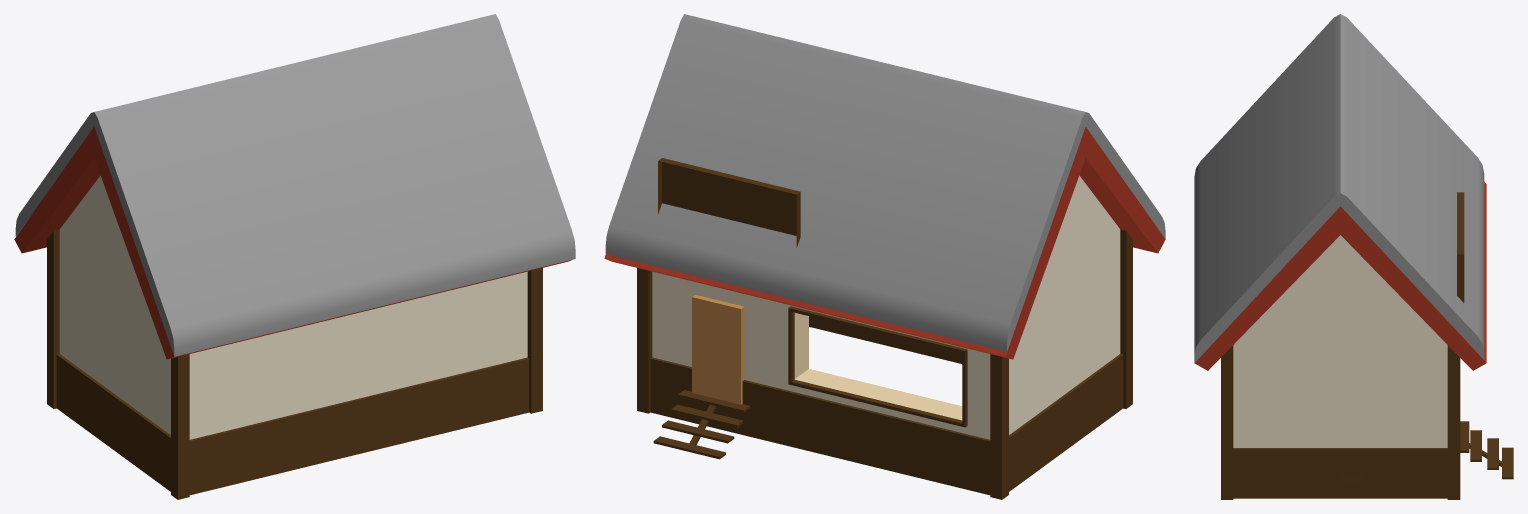
Rendered from hosue_1.fbx.
3 renders of one model, left to right at view 1: azimuth 30°, elevation 25°; view 2: azimuth 150°, elevation 25°; view 3: azimuth 270°, elevation 25°, orthographic. The views are drawn at different scales.
Parts seen in each view (by area): view 1: Box020; view 2: Box020; view 3: Box020.
Boxes of the visible parts, x1=… form: Box020: x1=14, y1=14, x2=575, y2=499; Box020: x1=604, y1=14, x2=1165, y2=499; Box020: x1=1194, y1=14, x2=1513, y2=499.
Size of the model in its own units: 906 by 748 by 683.
